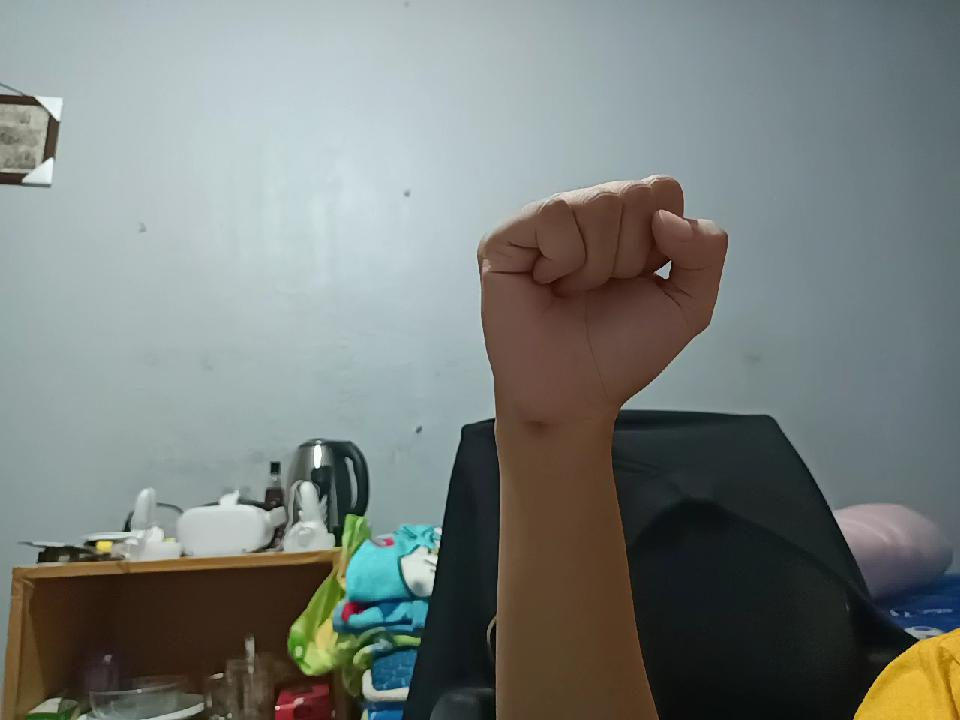rock: (479, 172, 732, 412)
